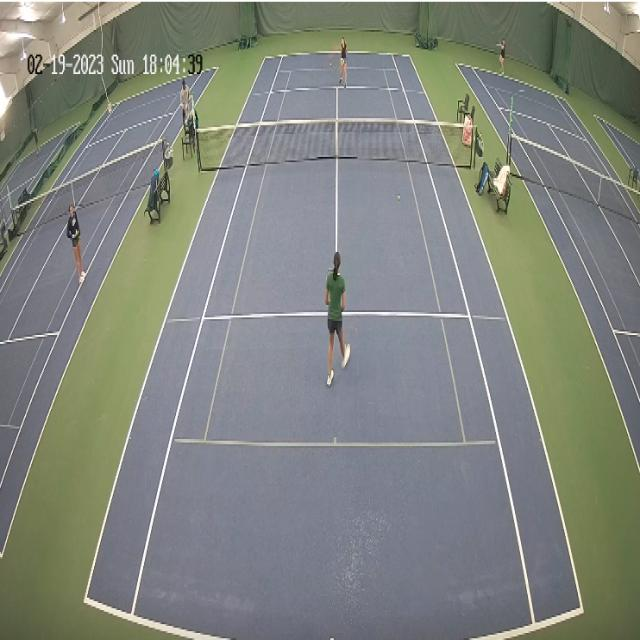ball: (398, 194, 400, 202), (330, 62, 332, 67)
